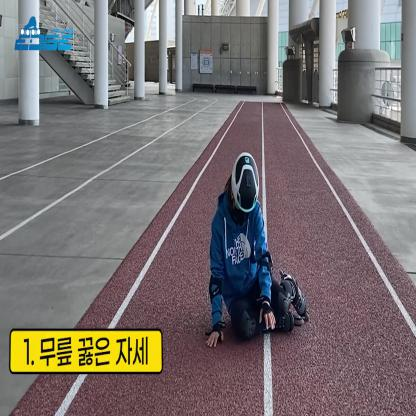Fall_Down: (206, 152, 306, 344)
